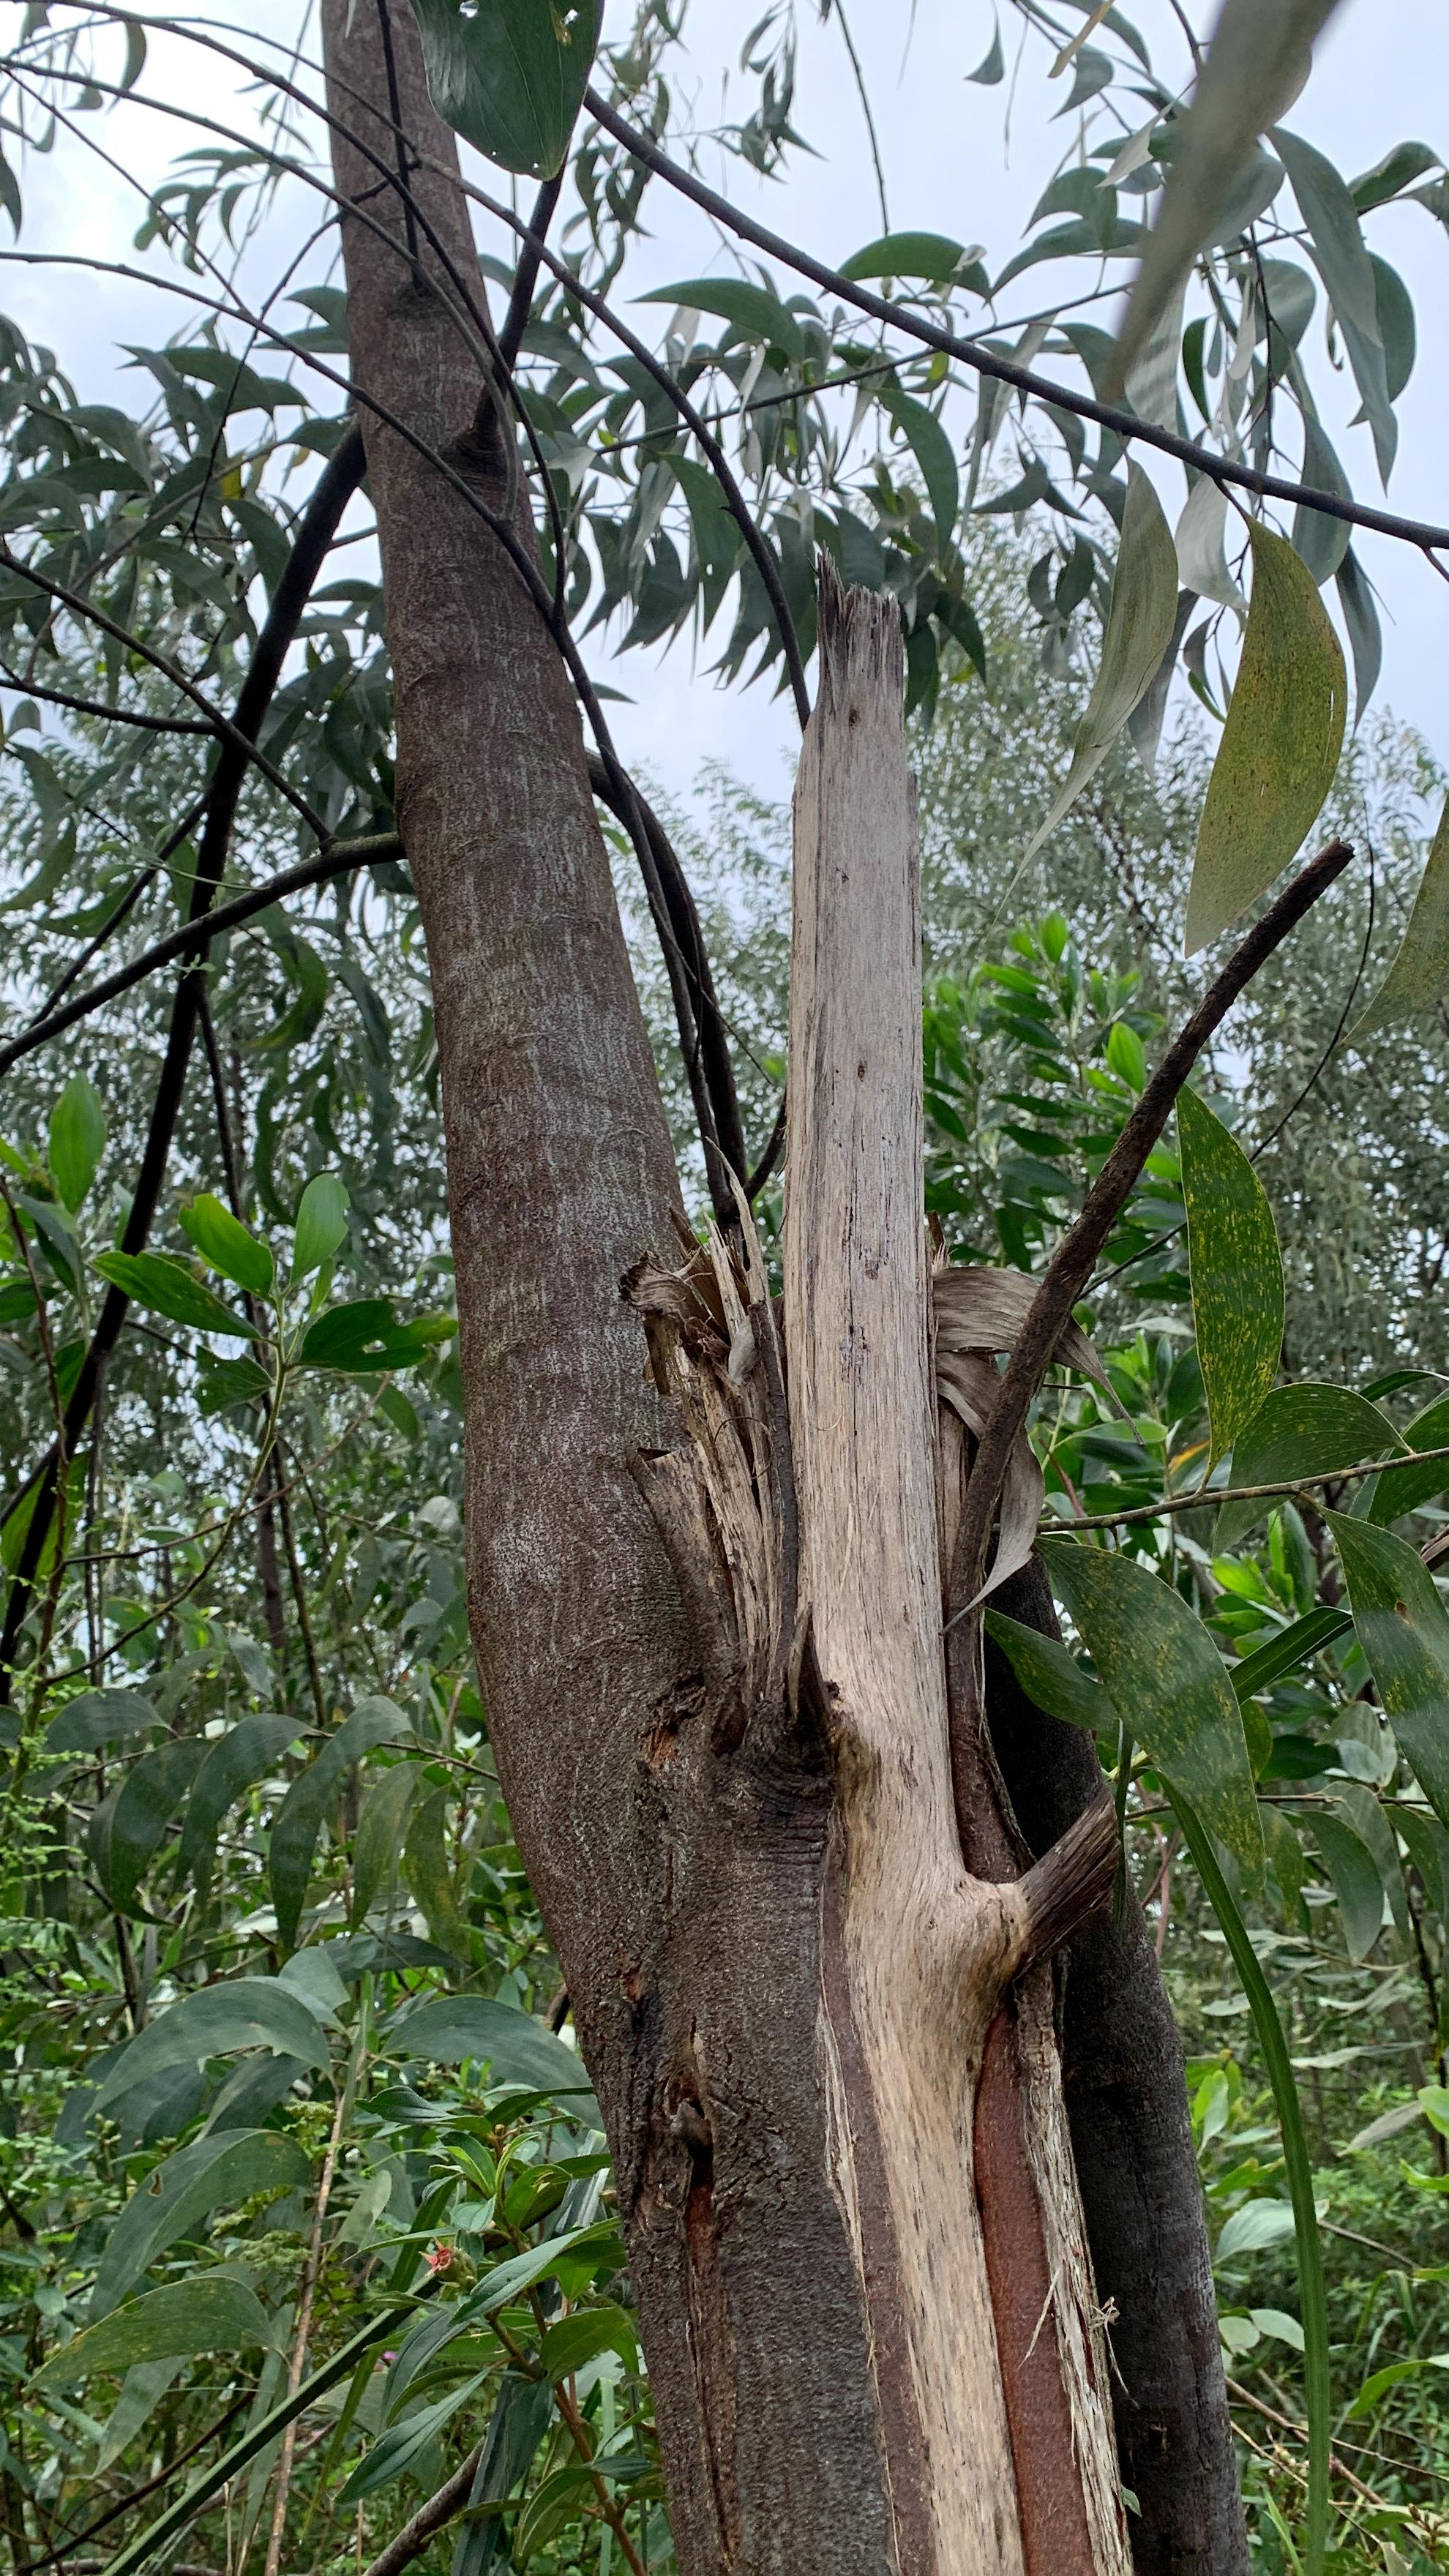Mammals Attack: (729, 571, 1122, 2576)
